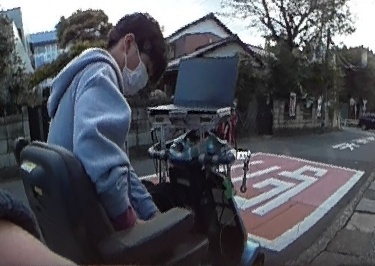person: (51, 12, 161, 227)
